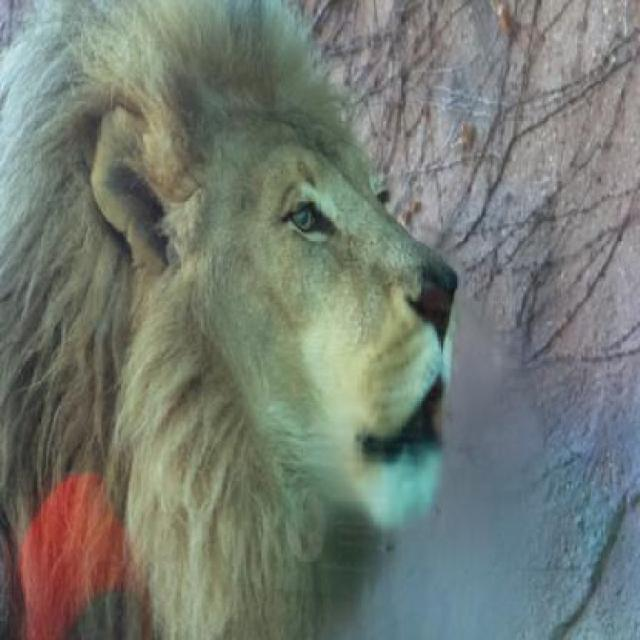Lion: (2, 7, 466, 638)
